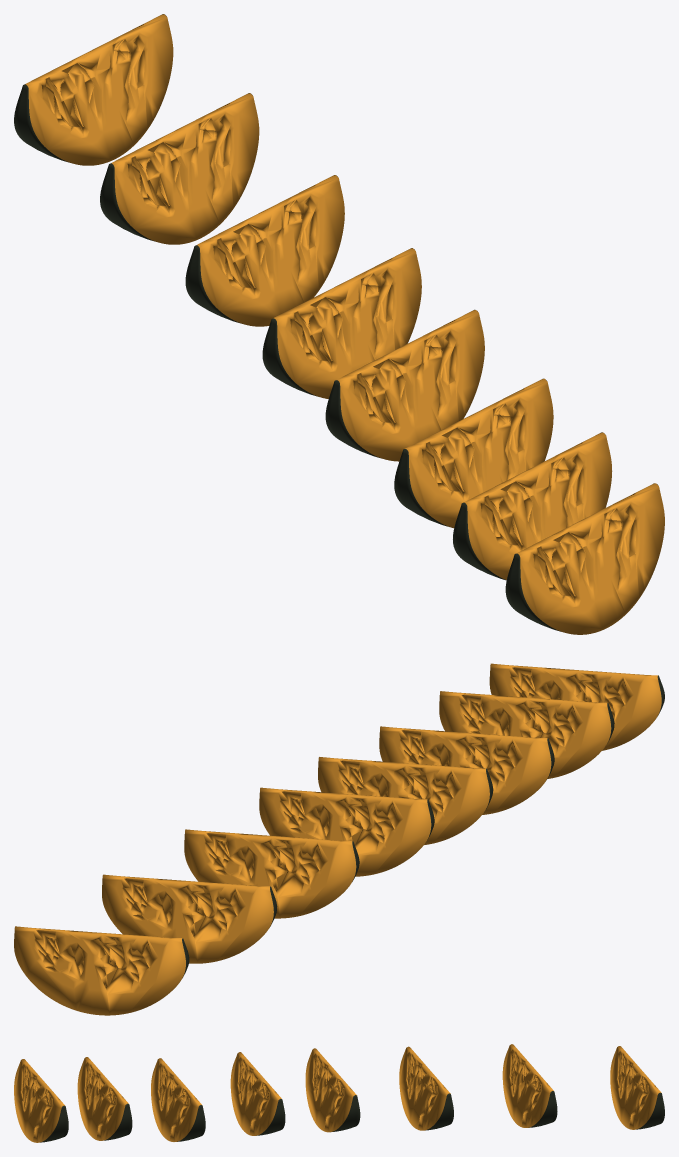
The model's file is Kalabasa_Eights.glb.
The picture shows the model from 3 angles, top to bottom: view 1: azimuth 30°, elevation 25°; view 2: azimuth 150°, elevation 25°; view 3: azimuth 270°, elevation 25°; orthographic projection. The views are drawn at different scales.
Visible parts, largest first — view 1: Sphere.006, Sphere.007, Sphere.008, Sphere.004, Sphere.001, Sphere.002, Sphere.003, Sphere.005; view 2: Sphere.008, Sphere.006, Sphere.004, Sphere.002, Sphere.005, Sphere.003, Sphere.001, Sphere.007; view 3: Sphere.002, Sphere.001, Sphere.005, Sphere.006, Sphere.007, Sphere.004, Sphere.008, Sphere.003.
Part boxes in pixels (x1,y1,x2,y2): Sphere.006: (100,93,259,244); Sphere.007: (505,483,664,634); Sphere.008: (14,14,173,165); Sphere.004: (185,175,344,326); Sphere.001: (325,309,484,461); Sphere.002: (262,248,421,398); Sphere.003: (394,378,553,528); Sphere.005: (453,432,612,580); Sphere.008: (14,926,189,1015); Sphere.006: (102,874,277,963); Sphere.004: (184,829,359,918); Sphere.002: (259,787,434,876); Sphere.005: (439,691,614,778); Sphere.003: (379,726,554,814); Sphere.001: (318,757,493,844); Sphere.007: (489,663,664,750); Sphere.002: (305,1048,360,1132); Sphere.001: (230,1052,285,1135); Sphere.005: (77,1057,132,1140); Sphere.006: (502,1044,557,1127); Sphere.007: (14,1059,68,1142); Sphere.004: (399,1046,453,1130); Sphere.008: (610,1046,664,1129); Sphere.003: (151,1058,205,1141).
Size of the model in its own units: 2.79 by 1.65 by 11.78.
